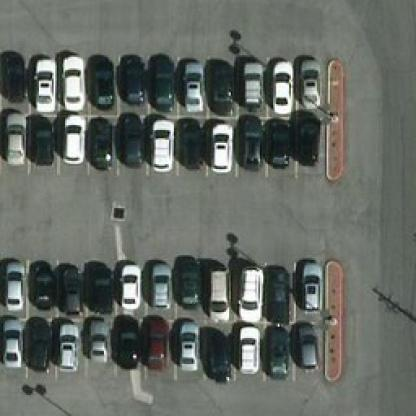car: (52, 49, 81, 104), (294, 110, 320, 171), (84, 47, 110, 107), (116, 47, 142, 107), (148, 49, 174, 109), (177, 49, 203, 109), (206, 49, 232, 109), (239, 49, 265, 109), (294, 47, 320, 107), (203, 114, 229, 174), (26, 258, 52, 318), (24, 317, 50, 377), (55, 318, 81, 378), (55, 252, 81, 312), (88, 254, 114, 314), (86, 324, 112, 384), (114, 317, 140, 377), (116, 257, 142, 317), (146, 322, 172, 382), (143, 255, 169, 315), (174, 255, 200, 315), (172, 324, 198, 384), (202, 325, 228, 385), (205, 264, 231, 324), (236, 262, 262, 322), (232, 330, 258, 390), (263, 326, 289, 386), (262, 255, 288, 315), (296, 258, 322, 318), (296, 325, 322, 385), (28, 54, 57, 107), (266, 51, 292, 110), (0, 110, 25, 171), (238, 115, 263, 176), (263, 110, 288, 171), (58, 109, 83, 169), (177, 114, 202, 174), (0, 54, 28, 107), (117, 110, 141, 171), (148, 112, 172, 172), (28, 108, 52, 167), (86, 108, 110, 167), (0, 266, 23, 308), (0, 323, 23, 364)
